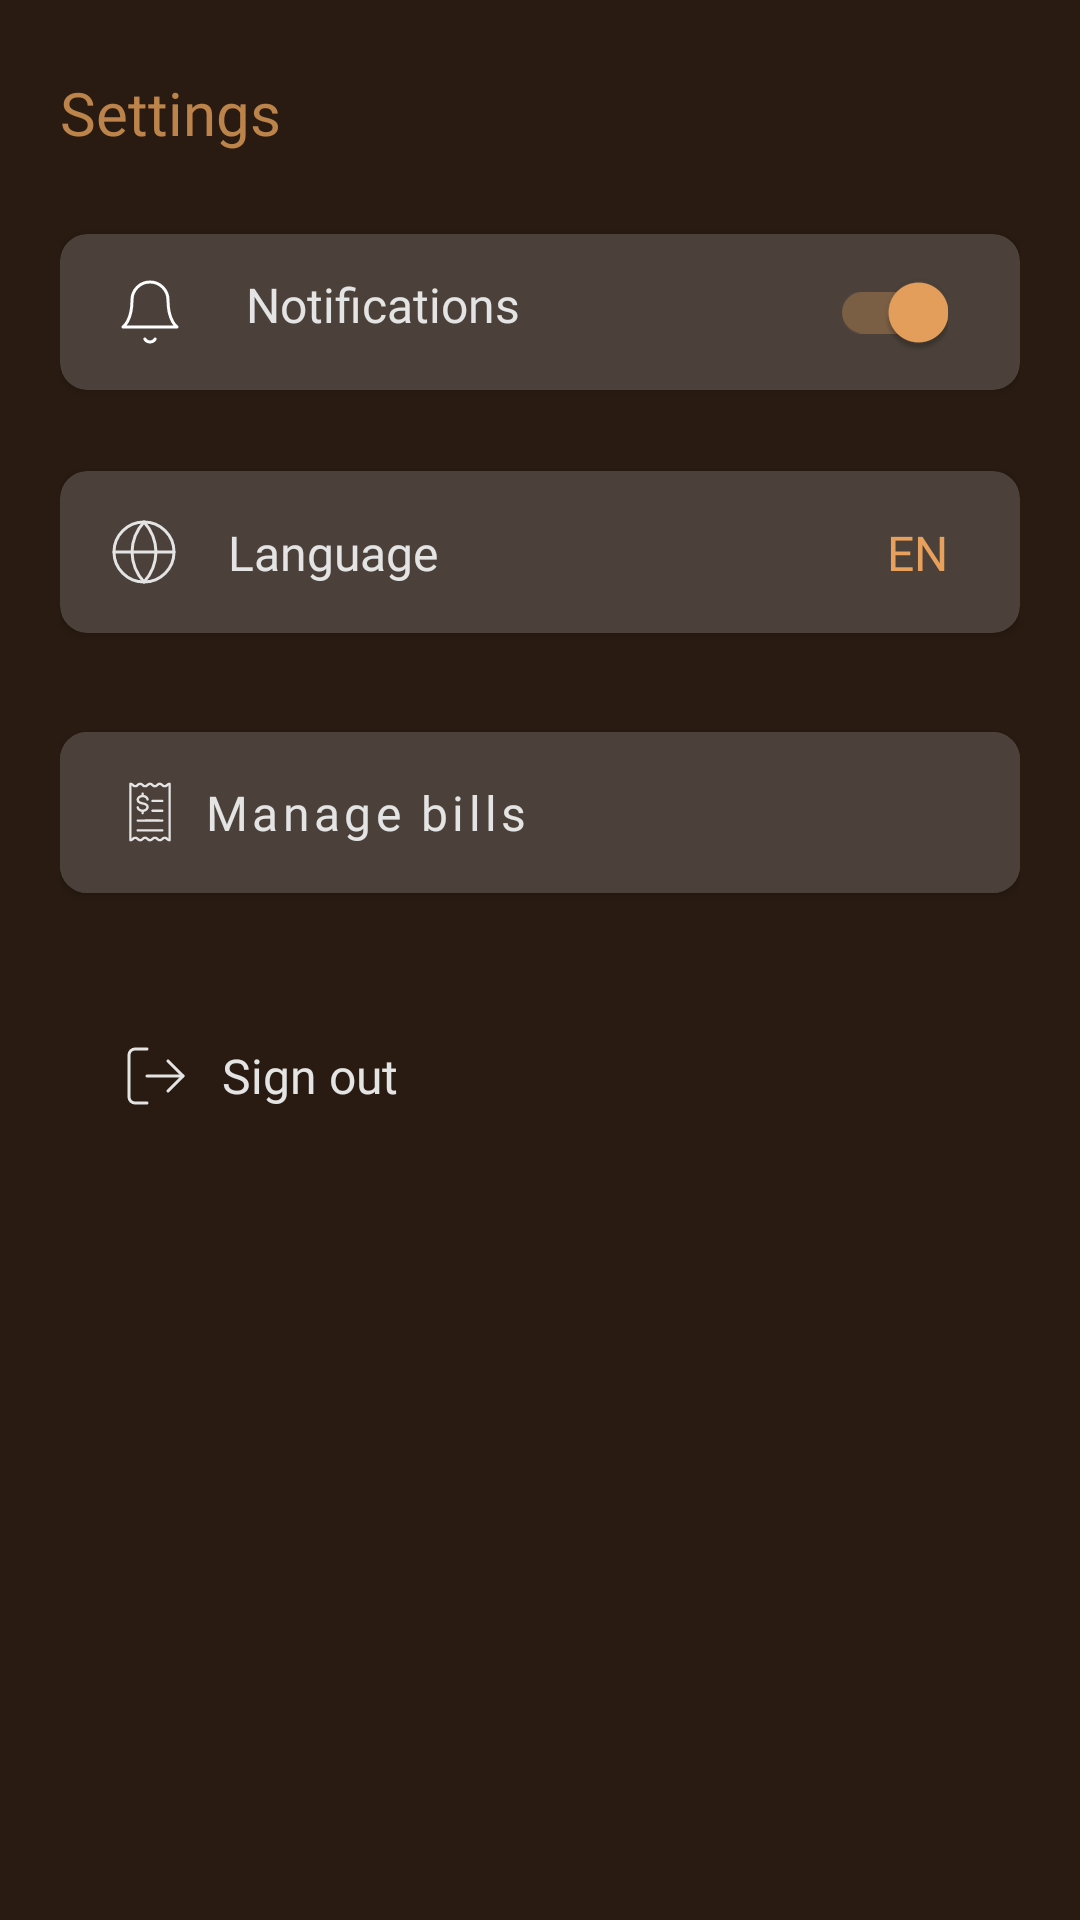

Icons on this 1080 x 1920 Android screen, each with its box as (x1, y1, x2, y2):
bell: (121, 280, 179, 344)
globe: (112, 520, 176, 584)
